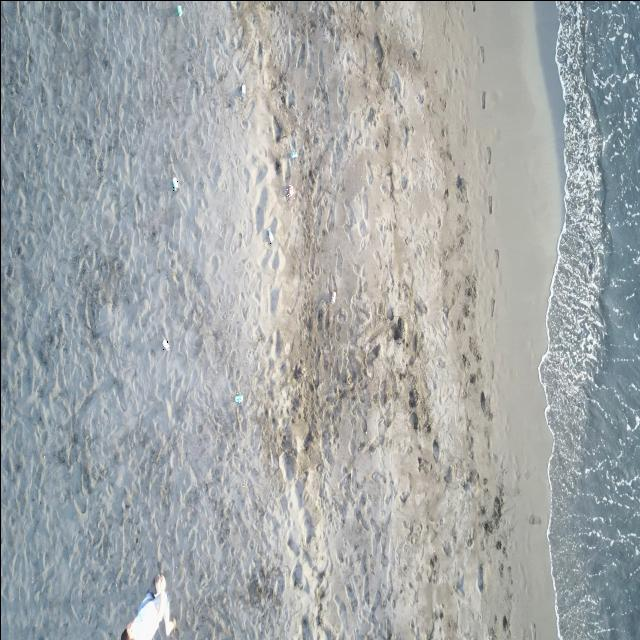Garbage: (283, 183, 293, 199), (172, 176, 179, 191), (233, 393, 243, 403), (161, 338, 168, 351), (267, 228, 272, 243), (289, 148, 296, 158), (241, 83, 246, 96), (176, 4, 181, 16), (331, 290, 335, 303)
